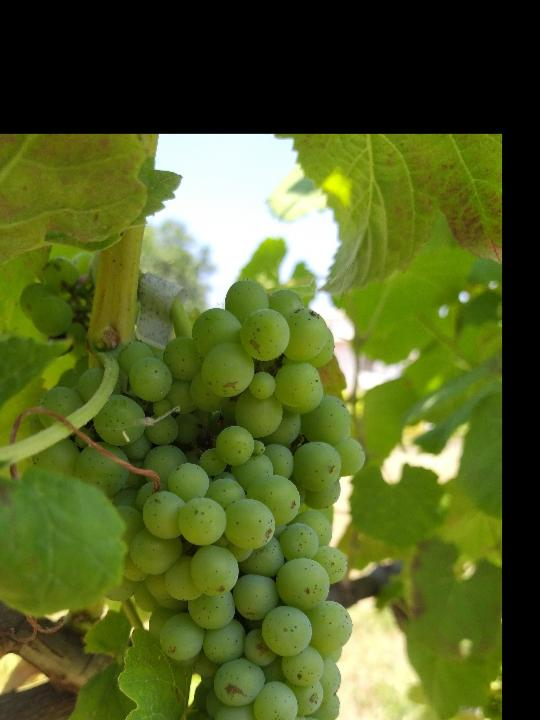grape: (33, 277, 372, 720)
